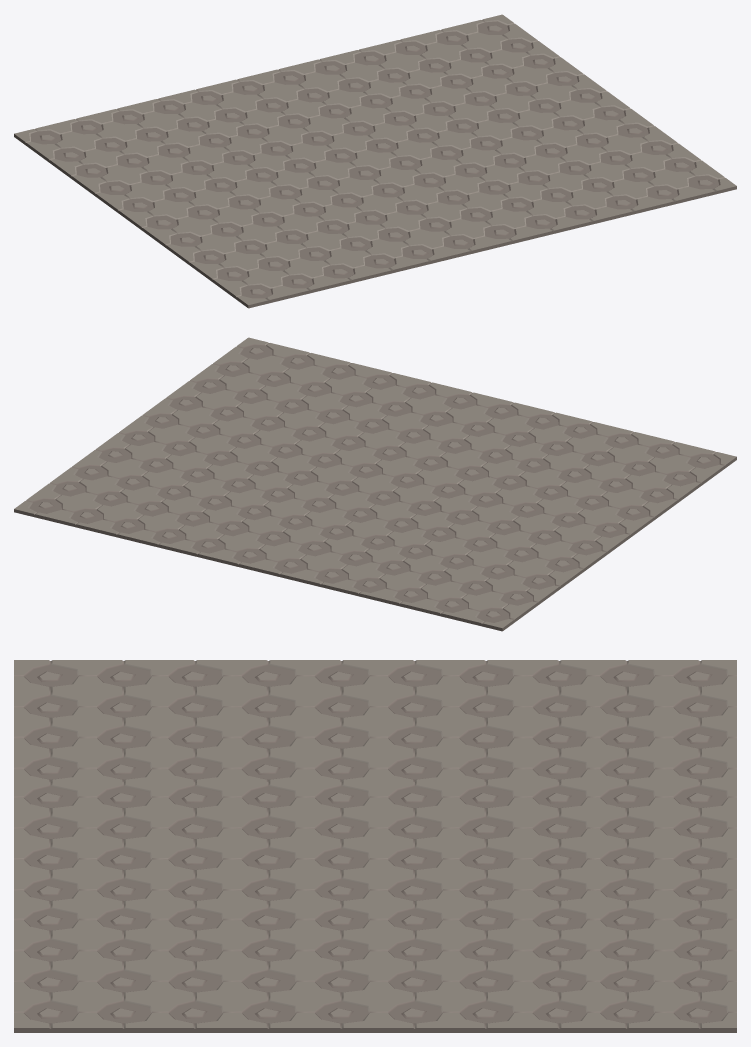
The picture shows the model from 3 angles, top to bottom: view 1: azimuth 30°, elevation 25°; view 2: azimuth 150°, elevation 25°; view 3: azimuth 270°, elevation 25°; orthographic projection. The views are drawn at different scales.
Visible parts, largest first — view 1: floor_tile_small_broken_A.108, floor_tile_small_broken_A, floor_tile_small_broken_A.012, floor_tile_small_broken_A.111, floor_tile_small_broken_A.063, floor_tile_small_broken_A.096, floor_tile_small_broken_A.048, floor_tile_small_broken_A.015, floor_tile_small_broken_A.003, floor_tile_small_broken_A.060, floor_tile_small_broken_A.099, floor_tile_small_broken_A.051 (+108 smaller); view 2: floor_tile_small_broken_A.178, floor_tile_small_broken_A.172, floor_tile_small_broken_A.148, floor_tile_small_broken_A.154, floor_tile_small_broken_A.149, floor_tile_small_broken_A.160, floor_tile_small_broken_A.167, floor_tile_small_broken_A.179, floor_tile_small_broken_A.155, floor_tile_small_broken_A.166, floor_tile_small_broken_A.161, floor_tile_small_broken_A.173 (+108 smaller); view 3: floor_tile_small_broken_A.011, floor_tile_small_broken_A.035, floor_tile_small_broken_A.149, floor_tile_small_broken_A.029, floor_tile_small_broken_A.003, floor_tile_small_broken_A.027, floor_tile_small_broken_A.005, floor_tile_small_broken_A.009, floor_tile_small_broken_A.033, floor_tile_small_broken_A.147, floor_tile_small_broken_A.071, floor_tile_small_broken_A.060 (+108 smaller).
Boxes of the visible parts, <box> form: floor_tile_small_broken_A.108: <box>224,278,289,308</box>; floor_tile_small_broken_A: <box>631,178,695,209</box>; floor_tile_small_broken_A.012: <box>549,198,613,228</box>; floor_tile_small_broken_A.111: <box>266,268,330,298</box>; floor_tile_small_broken_A.063: <box>427,228,491,258</box>; floor_tile_small_broken_A.096: <box>307,258,371,288</box>; floor_tile_small_broken_A.048: <box>468,218,532,248</box>; floor_tile_small_broken_A.015: <box>590,188,654,219</box>; floor_tile_small_broken_A.003: <box>672,169,736,199</box>; floor_tile_small_broken_A.060: <box>386,238,450,268</box>; floor_tile_small_broken_A.099: <box>348,248,412,278</box>; floor_tile_small_broken_A.051: <box>509,209,574,238</box>; floor_tile_small_broken_A.178: <box>461,601,526,631</box>; floor_tile_small_broken_A.172: <box>379,581,443,611</box>; floor_tile_small_broken_A.148: <box>55,501,119,532</box>; floor_tile_small_broken_A.154: <box>137,521,201,552</box>; floor_tile_small_broken_A.149: <box>14,491,78,522</box>; floor_tile_small_broken_A.160: <box>218,541,282,571</box>; floor_tile_small_broken_A.167: <box>259,551,323,581</box>; floor_tile_small_broken_A.179: <box>420,591,484,621</box>; floor_tile_small_broken_A.155: <box>96,511,160,542</box>; floor_tile_small_broken_A.166: <box>300,561,364,591</box>; floor_tile_small_broken_A.161: <box>177,532,241,561</box>; floor_tile_small_broken_A.173: <box>338,571,402,601</box>; floor_tile_small_broken_A.011: <box>231,996,305,1032</box>; floor_tile_small_broken_A.035: <box>522,996,596,1032</box>; floor_tile_small_broken_A.149: <box>663,996,736,1032</box>; floor_tile_small_broken_A.029: <box>378,996,451,1032</box>; floor_tile_small_broken_A.003: <box>14,996,87,1032</box>; floor_tile_small_broken_A.027: <box>305,996,378,1032</box>; floor_tile_small_broken_A.005: <box>87,996,160,1032</box>; floor_tile_small_broken_A.009: <box>158,996,231,1032</box>; floor_tile_small_broken_A.033: <box>449,996,522,1032</box>; floor_tile_small_broken_A.147: <box>590,996,663,1032</box>; floor_tile_small_broken_A.071: <box>231,812,305,844</box>; floor_tile_small_broken_A.060: <box>14,781,87,813</box>.
Size of the model in its own units: 23.69 by 0.15 by 19.68.
3 materials, 3 textured.
